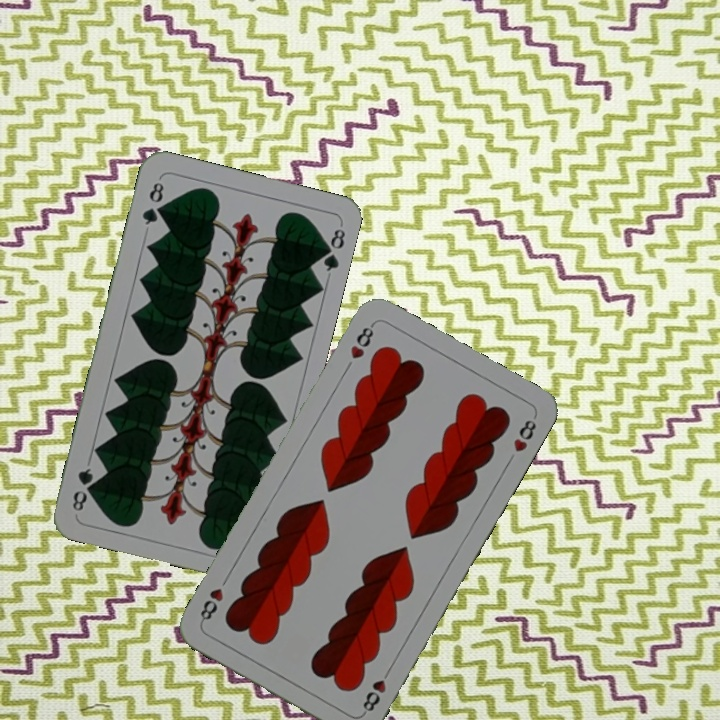G8: (138, 178, 167, 228)
H8: (358, 663, 394, 717), (346, 319, 377, 362)
